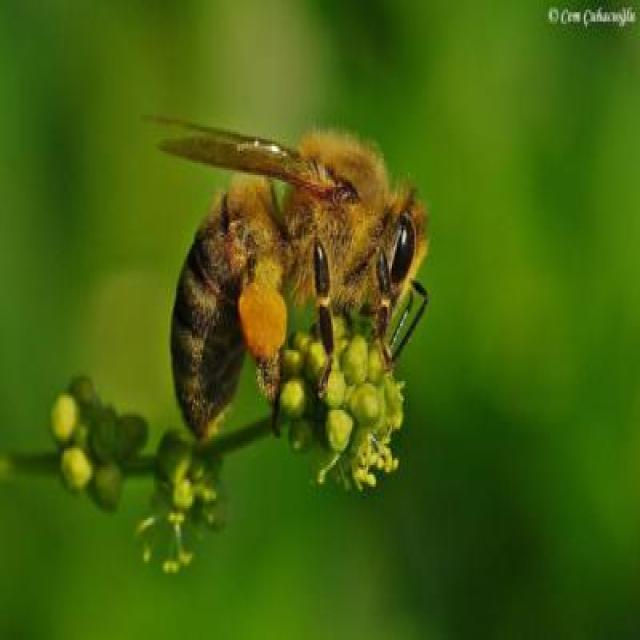antennae: (392, 275, 430, 364), (388, 288, 415, 350)
body: (169, 137, 429, 444)
insect: (136, 110, 438, 448)
legs: (309, 235, 339, 402), (369, 251, 392, 368)
mouthpart: (361, 296, 395, 319)
wings: (156, 133, 362, 206), (140, 112, 302, 158)
